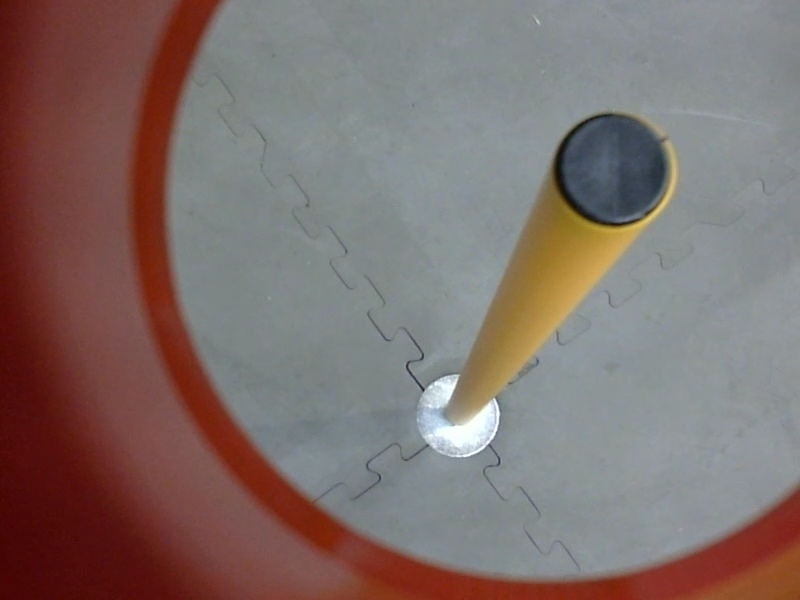tip: (544, 105, 685, 237)
